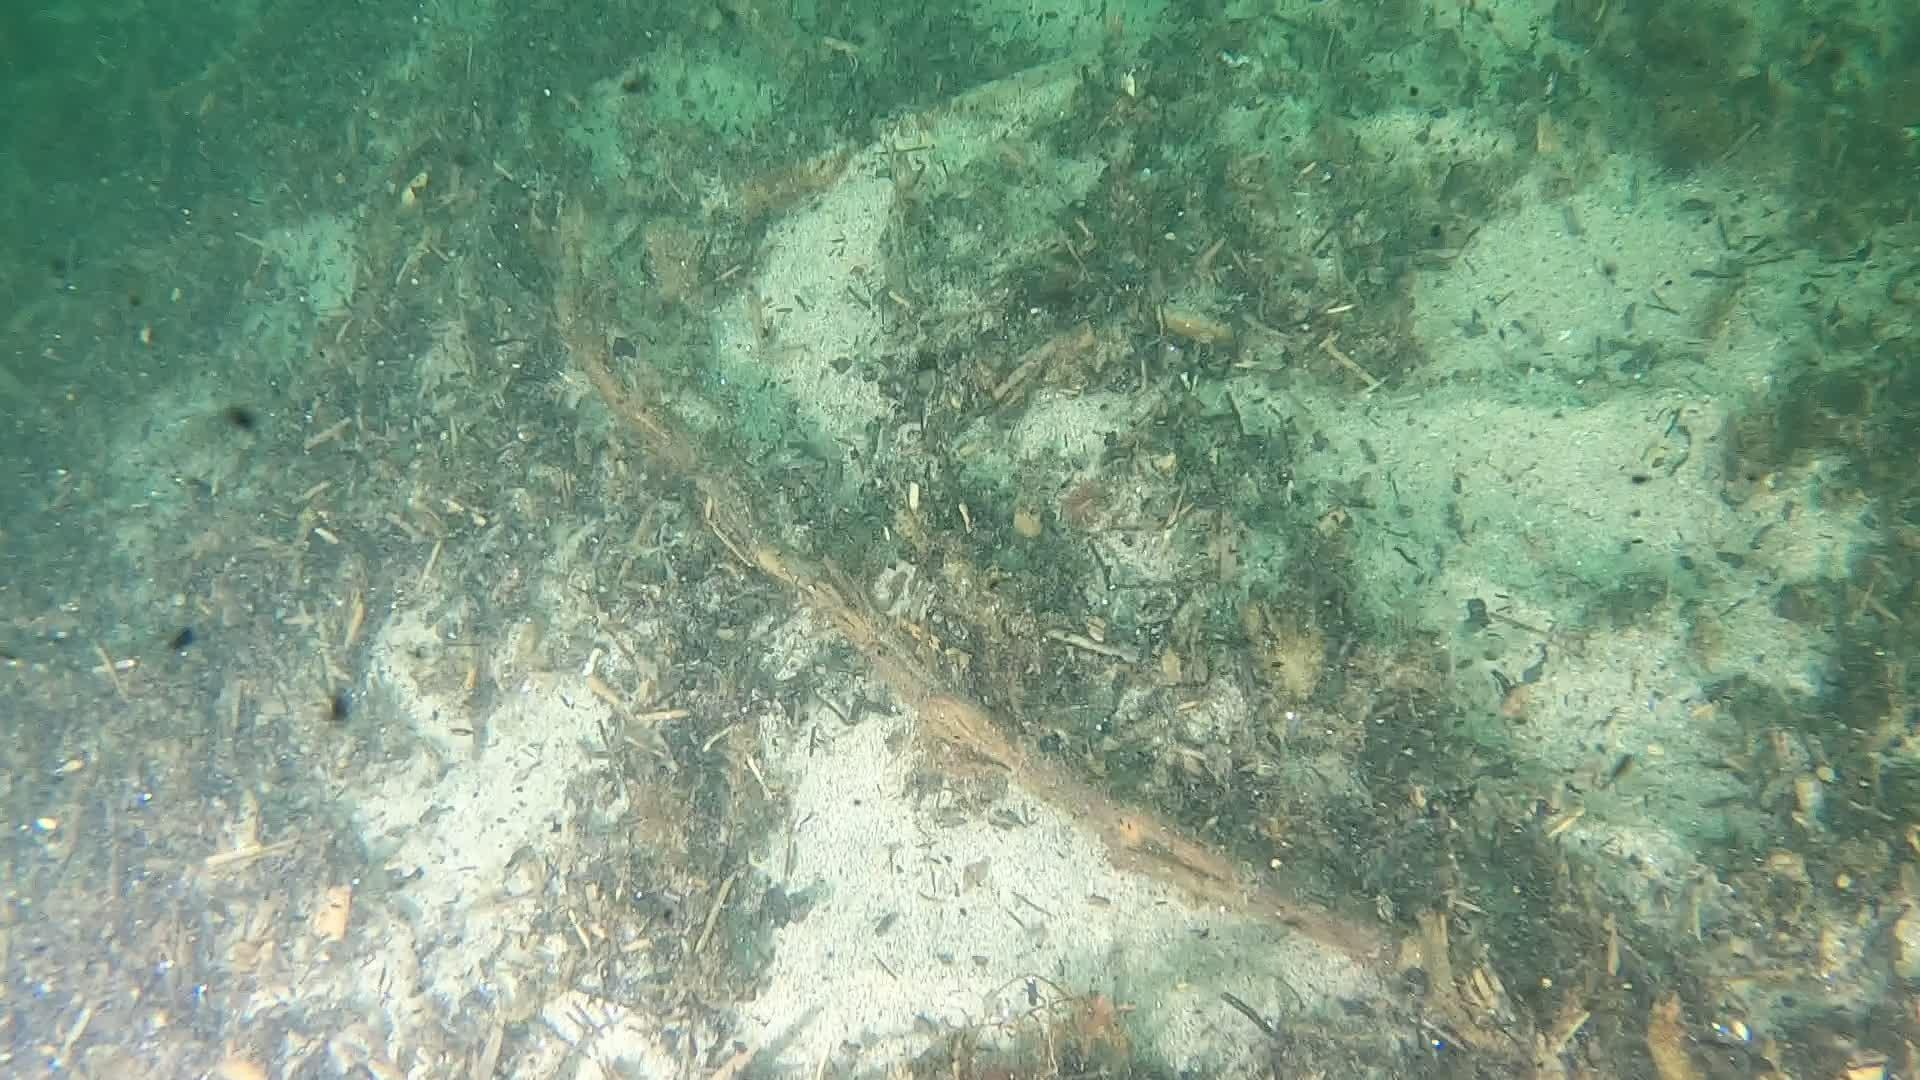wood: (555, 239, 1567, 1080)
